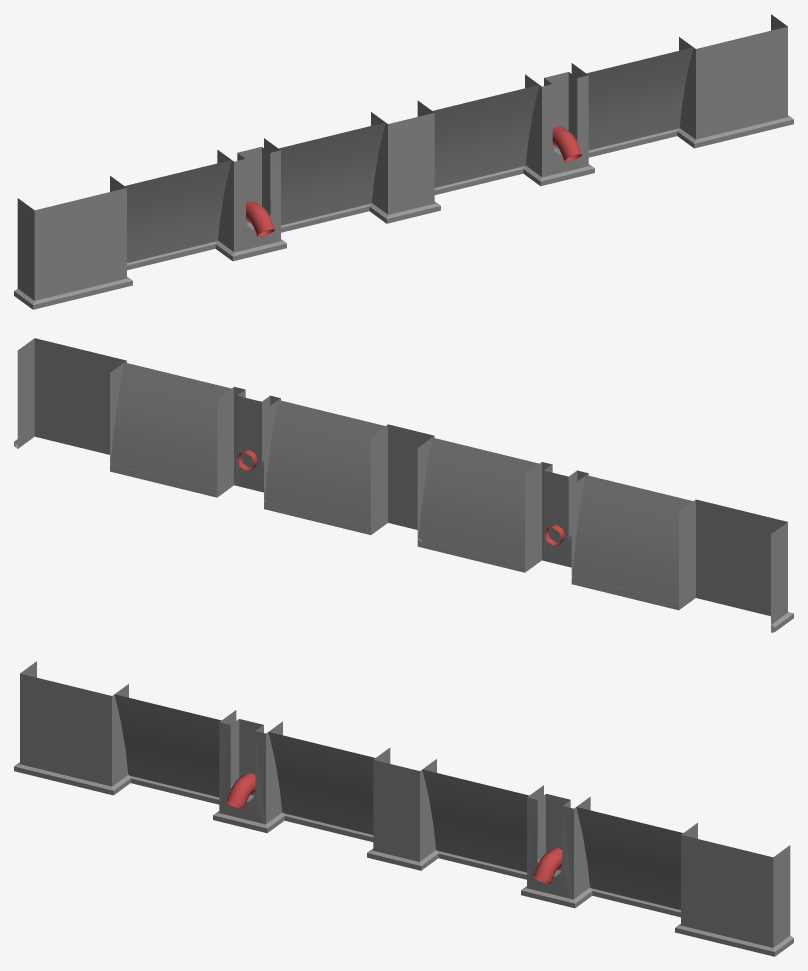
The model's file is wallreup wall 2.FBX.
3 views of the same model, one above another, from view 1: azimuth 30°, elevation 25°; view 2: azimuth 150°, elevation 25°; view 3: azimuth 330°, elevation 25° (orthographic).
Parts seen in each view (by area): view 1: Object1089; view 2: Object1089; view 3: Object1089.
Part boxes in pixels (x1=…): Object1089: x1=14, y1=14, x2=793, y2=309; Object1089: x1=14, y1=338, x2=793, y2=632; Object1089: x1=14, y1=661, x2=793, y2=956.
Size of the model in its own units: 10.1 by 1.25 by 0.6633.
